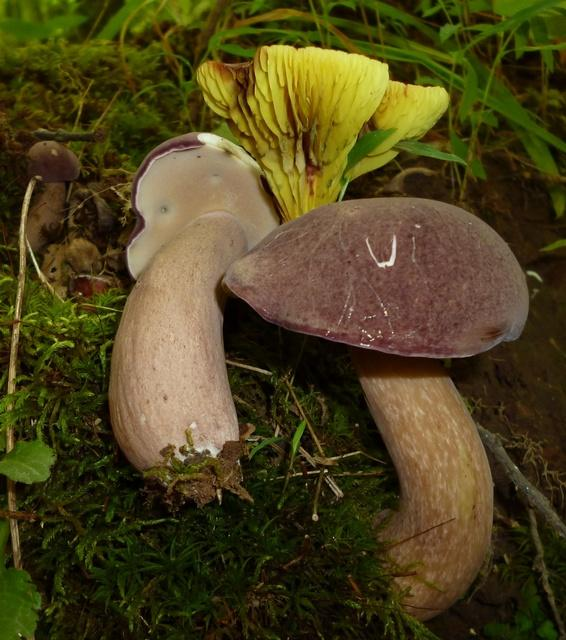Non-edible Mushroom: (220, 194, 530, 622), (106, 130, 280, 496), (190, 46, 442, 201)
